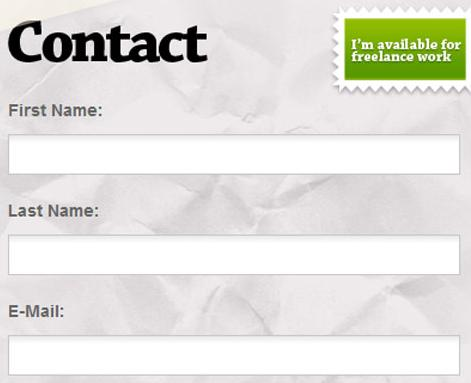field: (5, 231, 461, 276), (7, 333, 461, 377), (4, 132, 460, 174)
field_with_label: (3, 202, 464, 278), (3, 102, 462, 177), (4, 304, 465, 378)
